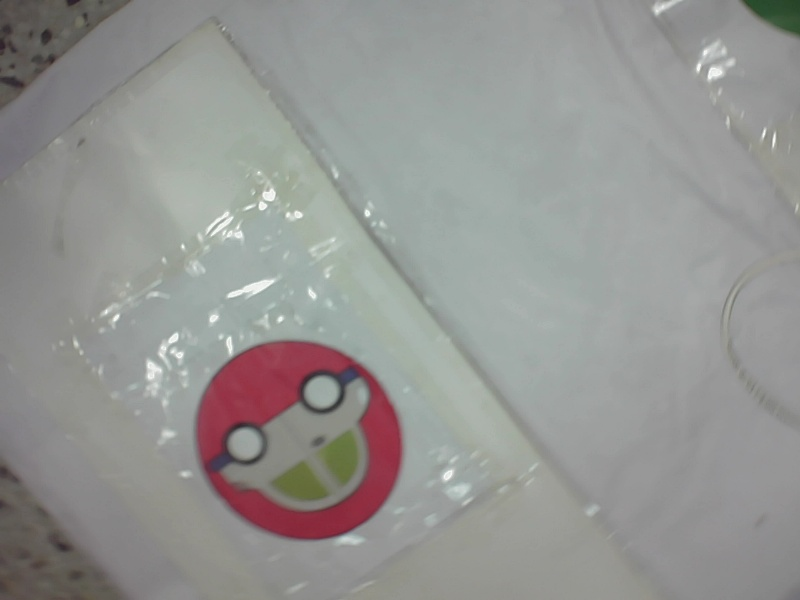areaC: (186, 339, 413, 544)
